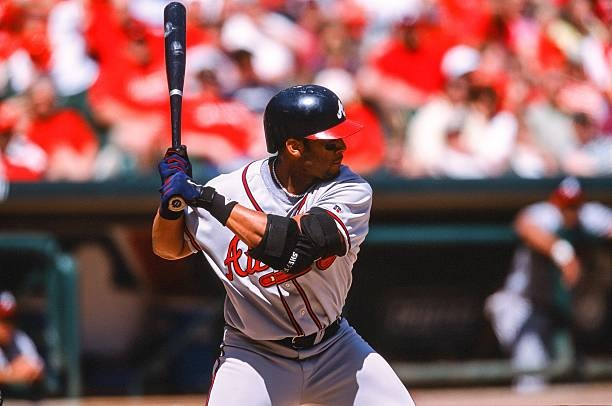bita: (163, 4, 193, 214)
